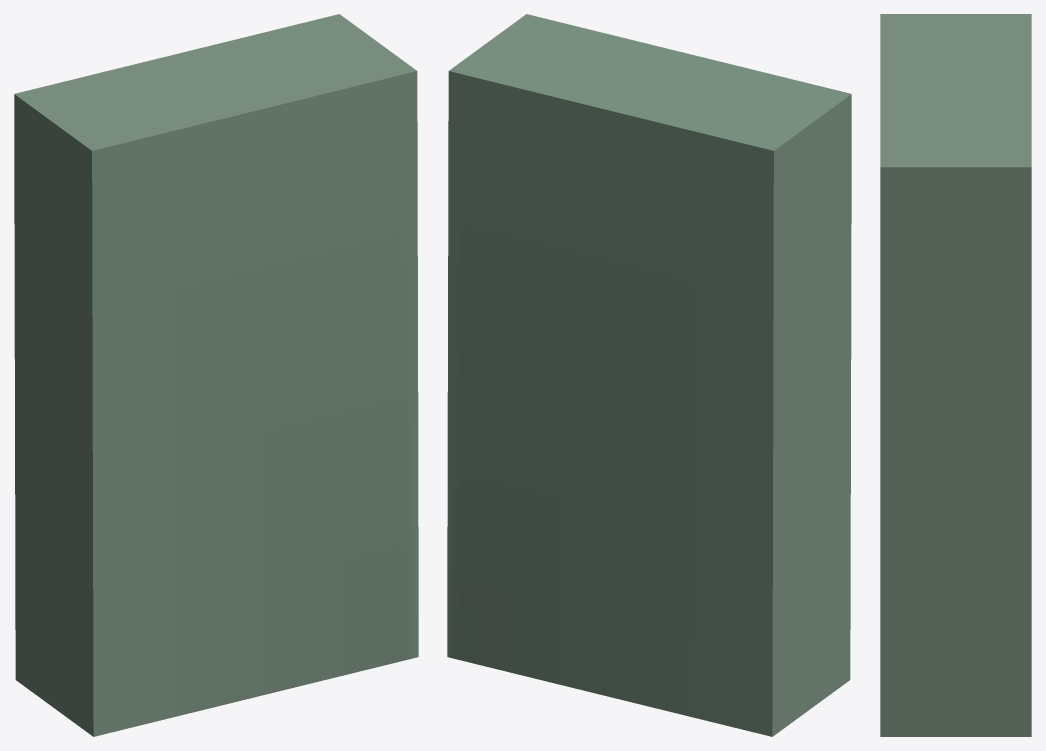
File: MSH_QuestObject_cabinet_09.fbx
3 views of the same model, side by side, from view 1: azimuth 30°, elevation 25°; view 2: azimuth 150°, elevation 25°; view 3: azimuth 270°, elevation 25° (orthographic). The views are drawn at different scales.
Parts seen in each view (by area): view 1: MSH_QuestObject_cabinet_09; view 2: MSH_QuestObject_cabinet_09; view 3: MSH_QuestObject_cabinet_09.
Part boxes in pixels (bbox=[...]): MSH_QuestObject_cabinet_09: bbox=[14, 14, 418, 736]; MSH_QuestObject_cabinet_09: bbox=[447, 14, 851, 736]; MSH_QuestObject_cabinet_09: bbox=[880, 14, 1031, 736].
Bounding box in the file's own units: 2.29 × 3.93 × 0.9458.
